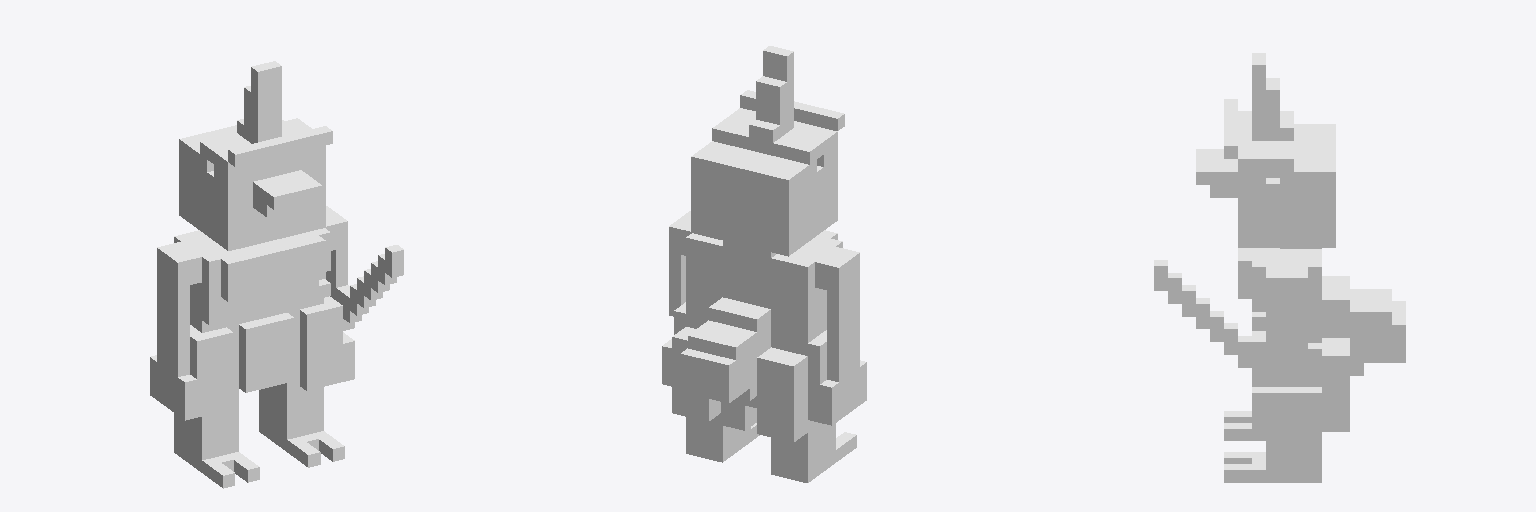
The model's file is samuraiChicken.obj.
3 renders of one model, left to right at view 1: azimuth 30°, elevation 25°; view 2: azimuth 150°, elevation 25°; view 3: azimuth 270°, elevation 25°, orthographic.
Visible parts, largest first — view 1: object 1; view 2: object 1; view 3: object 1.
Boxes of the visible parts, <box> form: object 1: <box>150,61,403,488</box>; object 1: <box>662,46,866,482</box>; object 1: <box>1154,53,1405,482</box>.
Bounding box in the file's own units: 1.4 × 3.1 × 1.8.